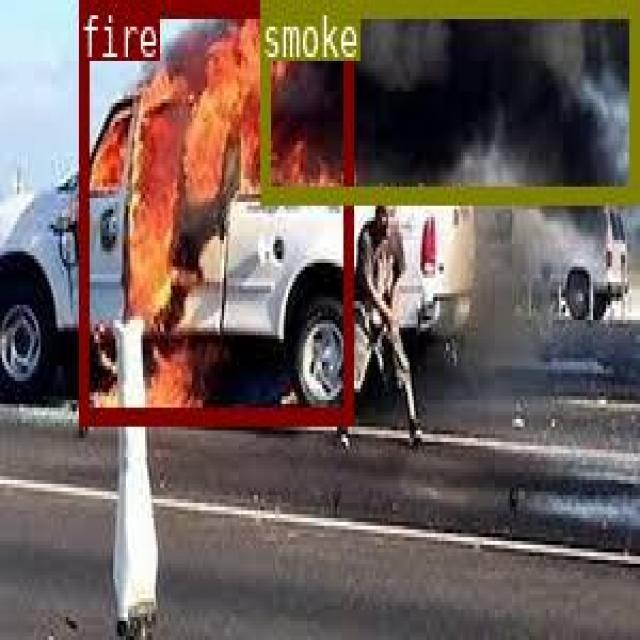fire: (77, 0, 352, 423)
smoke: (258, 0, 636, 198)
